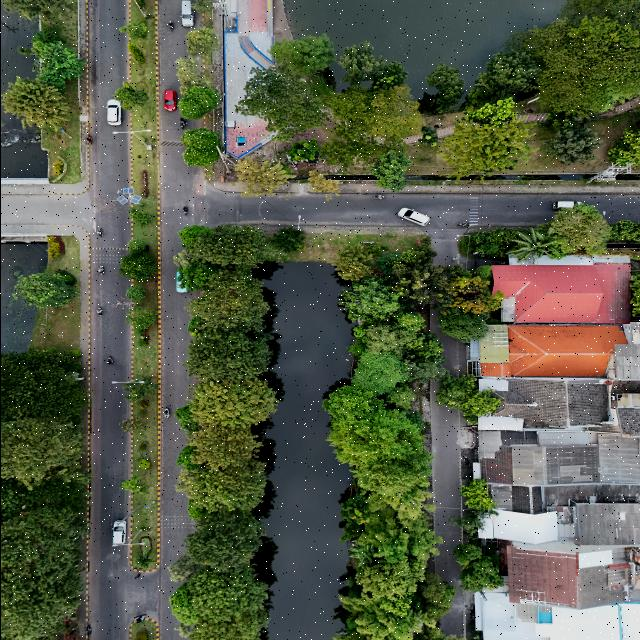Tree: (180, 510, 264, 568), (185, 329, 272, 379), (186, 378, 276, 426), (178, 462, 266, 508), (189, 284, 267, 329), (188, 422, 264, 467), (1, 86, 67, 130), (438, 312, 486, 344), (117, 254, 161, 280), (262, 229, 304, 254), (451, 544, 482, 566), (124, 42, 146, 64), (124, 284, 148, 302), (127, 209, 148, 225), (134, 552, 155, 568), (125, 238, 146, 252)
